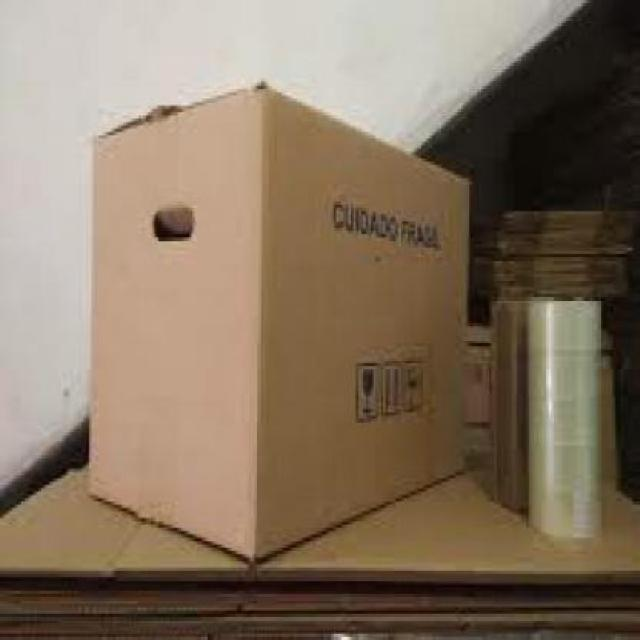box: (78, 82, 477, 564)
